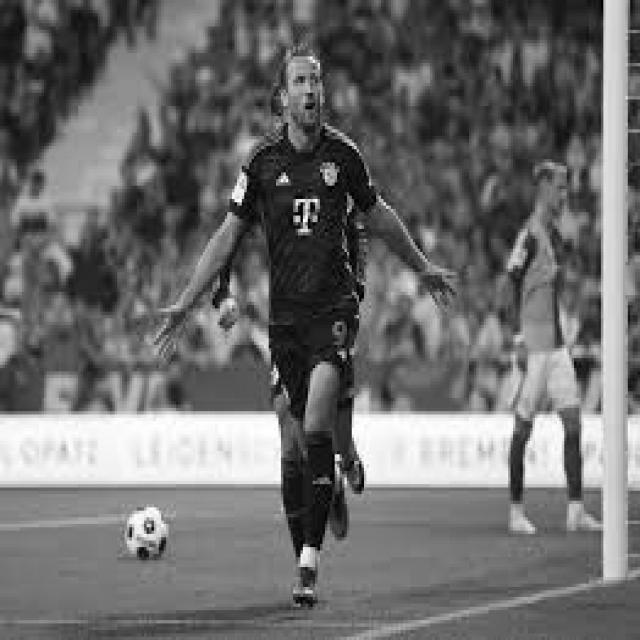football: (125, 504, 174, 564)
